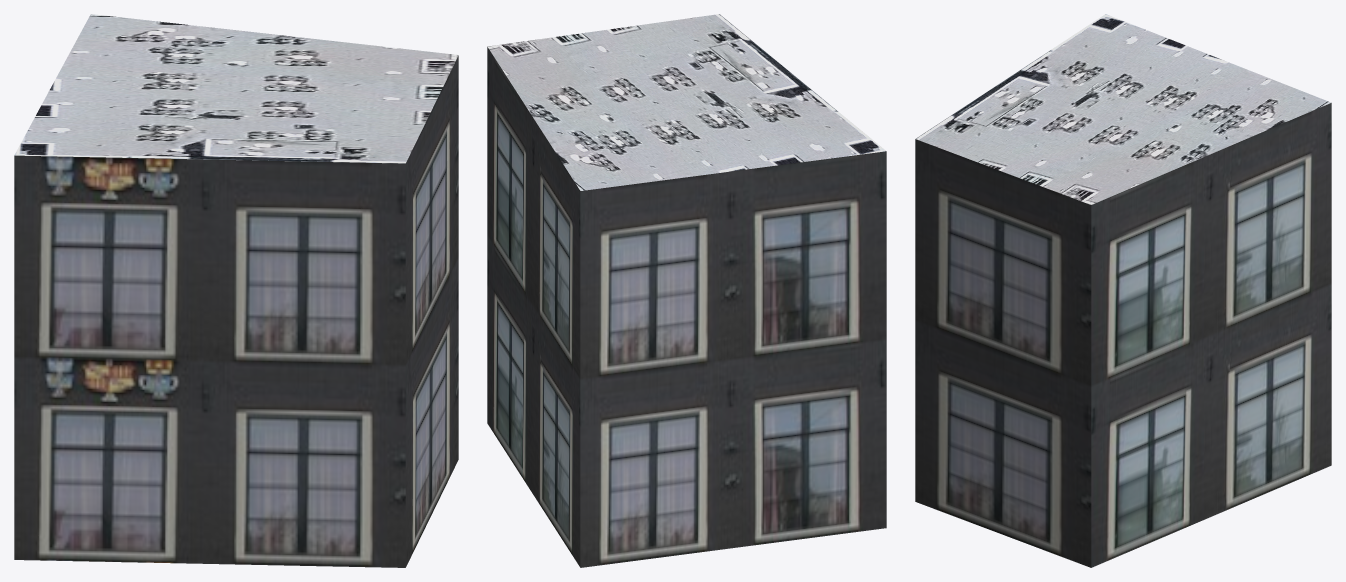
File: ResTex__3463.fbx
The picture shows the model from 3 angles, left to right: view 1: azimuth 30°, elevation 25°; view 2: azimuth 150°, elevation 25°; view 3: azimuth 270°, elevation 25°; orthographic projection. The views are drawn at different scales.
Parts seen in each view (by area): view 1: CityEngineMaterial_22_m, CityEngineMaterial_4_m; view 2: CityEngineMaterial_22_m, CityEngineMaterial_4_m; view 3: CityEngineMaterial_22_m, CityEngineMaterial_4_m.
Part boxes in pixels (<box>): CityEngineMaterial_22_m: <box>14,56,458,567</box>; CityEngineMaterial_4_m: <box>14,14,458,163</box>; CityEngineMaterial_22_m: <box>487,47,886,567</box>; CityEngineMaterial_4_m: <box>487,14,886,190</box>; CityEngineMaterial_22_m: <box>915,103,1331,567</box>; CityEngineMaterial_4_m: <box>916,14,1331,204</box>.
Size of the model in its own units: 6.78 by 6 by 6.24.
2 materials, 2 textured.
